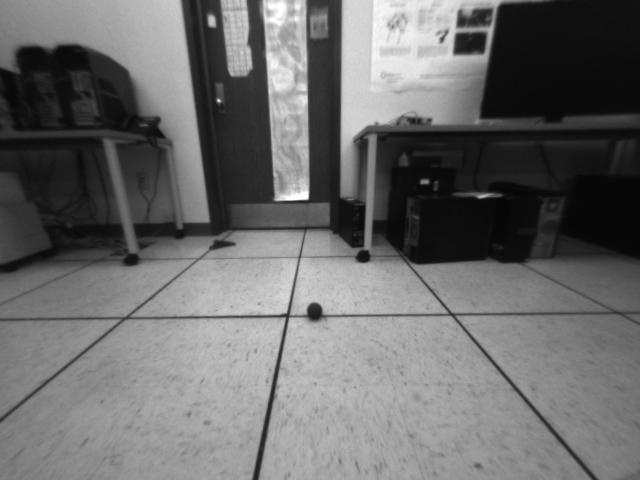dogtoy: (302, 299, 327, 323)
